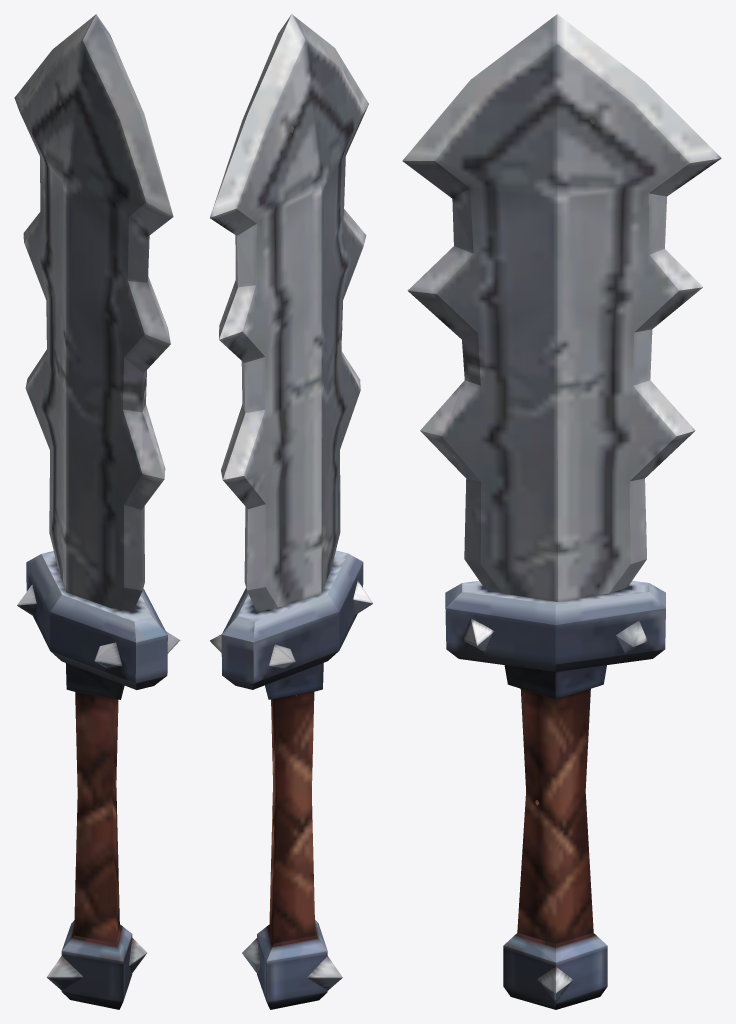
File: sword05_3459f71a.glb
3 renders of one model, left to right at view 1: azimuth 30°, elevation 25°; view 2: azimuth 150°, elevation 25°; view 3: azimuth 270°, elevation 25°, orthographic.
Size of the model in its own units: 0.1777 by 1.65 by 0.485.
1 material, 1 textured.
